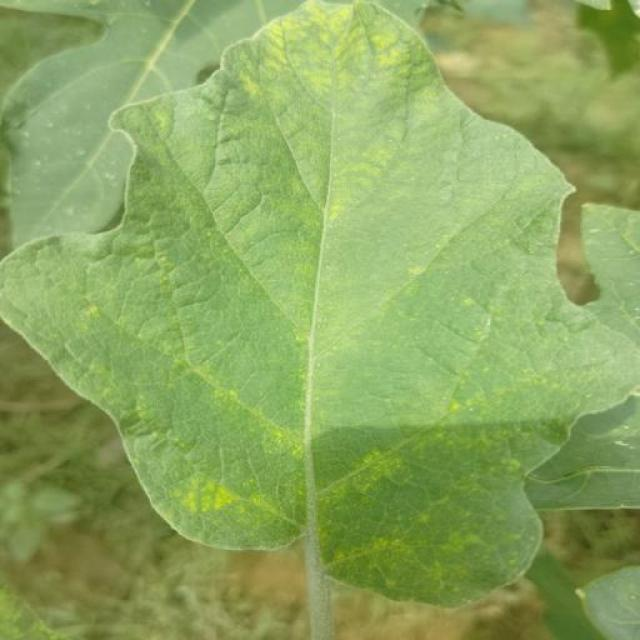leaf_spot: (215, 0, 440, 104), (172, 331, 322, 480), (327, 503, 459, 606), (539, 171, 616, 319), (300, 467, 408, 532), (352, 420, 456, 486), (178, 448, 253, 532), (432, 384, 510, 454), (438, 478, 491, 580), (564, 568, 640, 638), (289, 154, 365, 220), (335, 129, 408, 196), (130, 218, 190, 277), (135, 88, 186, 145), (71, 290, 118, 334), (391, 246, 428, 300), (449, 282, 483, 326), (6, 169, 26, 201), (17, 123, 38, 150), (99, 166, 119, 189), (31, 153, 47, 172), (73, 142, 88, 160), (42, 116, 59, 130), (64, 201, 77, 219), (80, 101, 96, 115)
